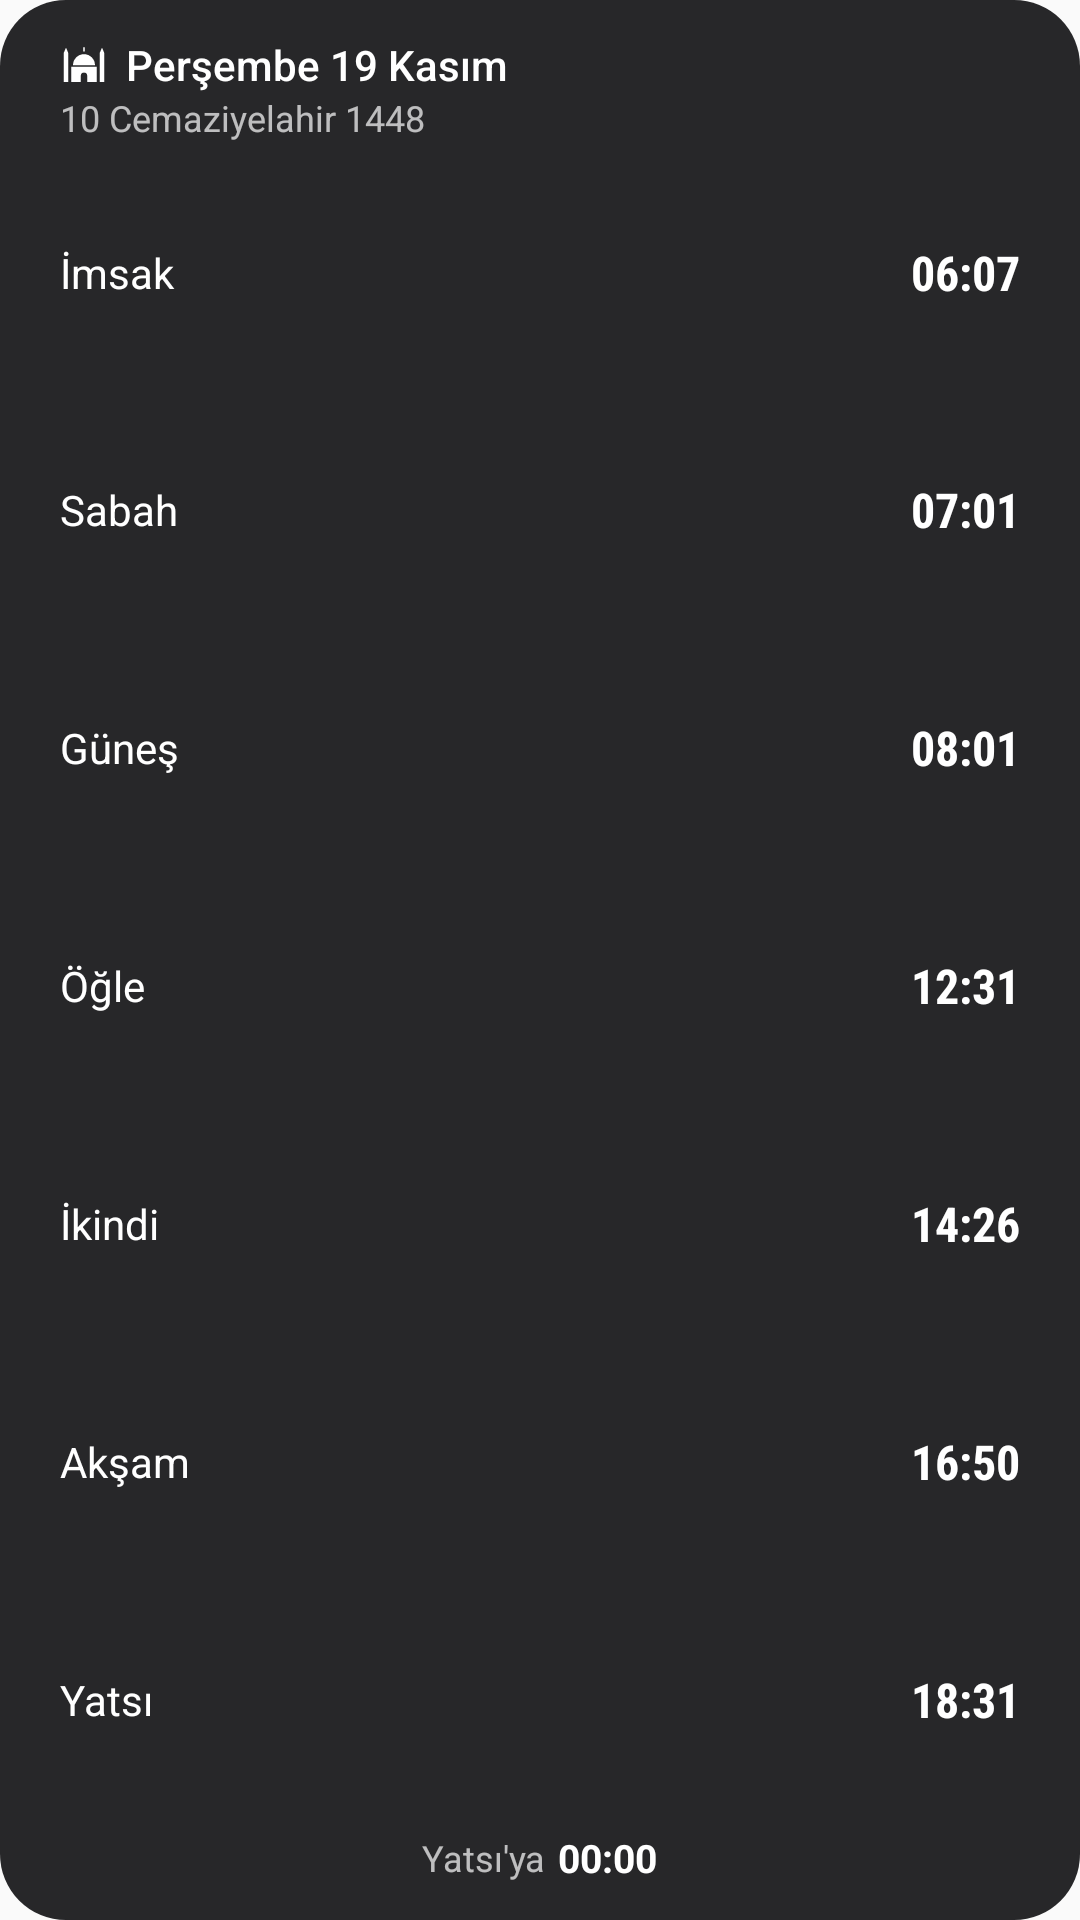

Icon bounding boxes for this 1080px×1920px phone screenshot, format (x1, y1, x2, y2):
cami: (63, 47, 105, 82)
